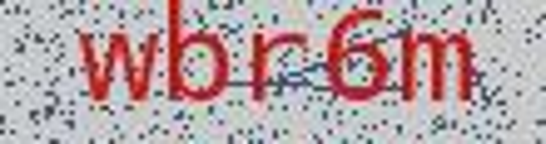6: (320, 2, 393, 108)
b: (163, 1, 232, 106)
m: (396, 18, 482, 116)
r: (244, 25, 311, 113)
w: (71, 18, 158, 116)
